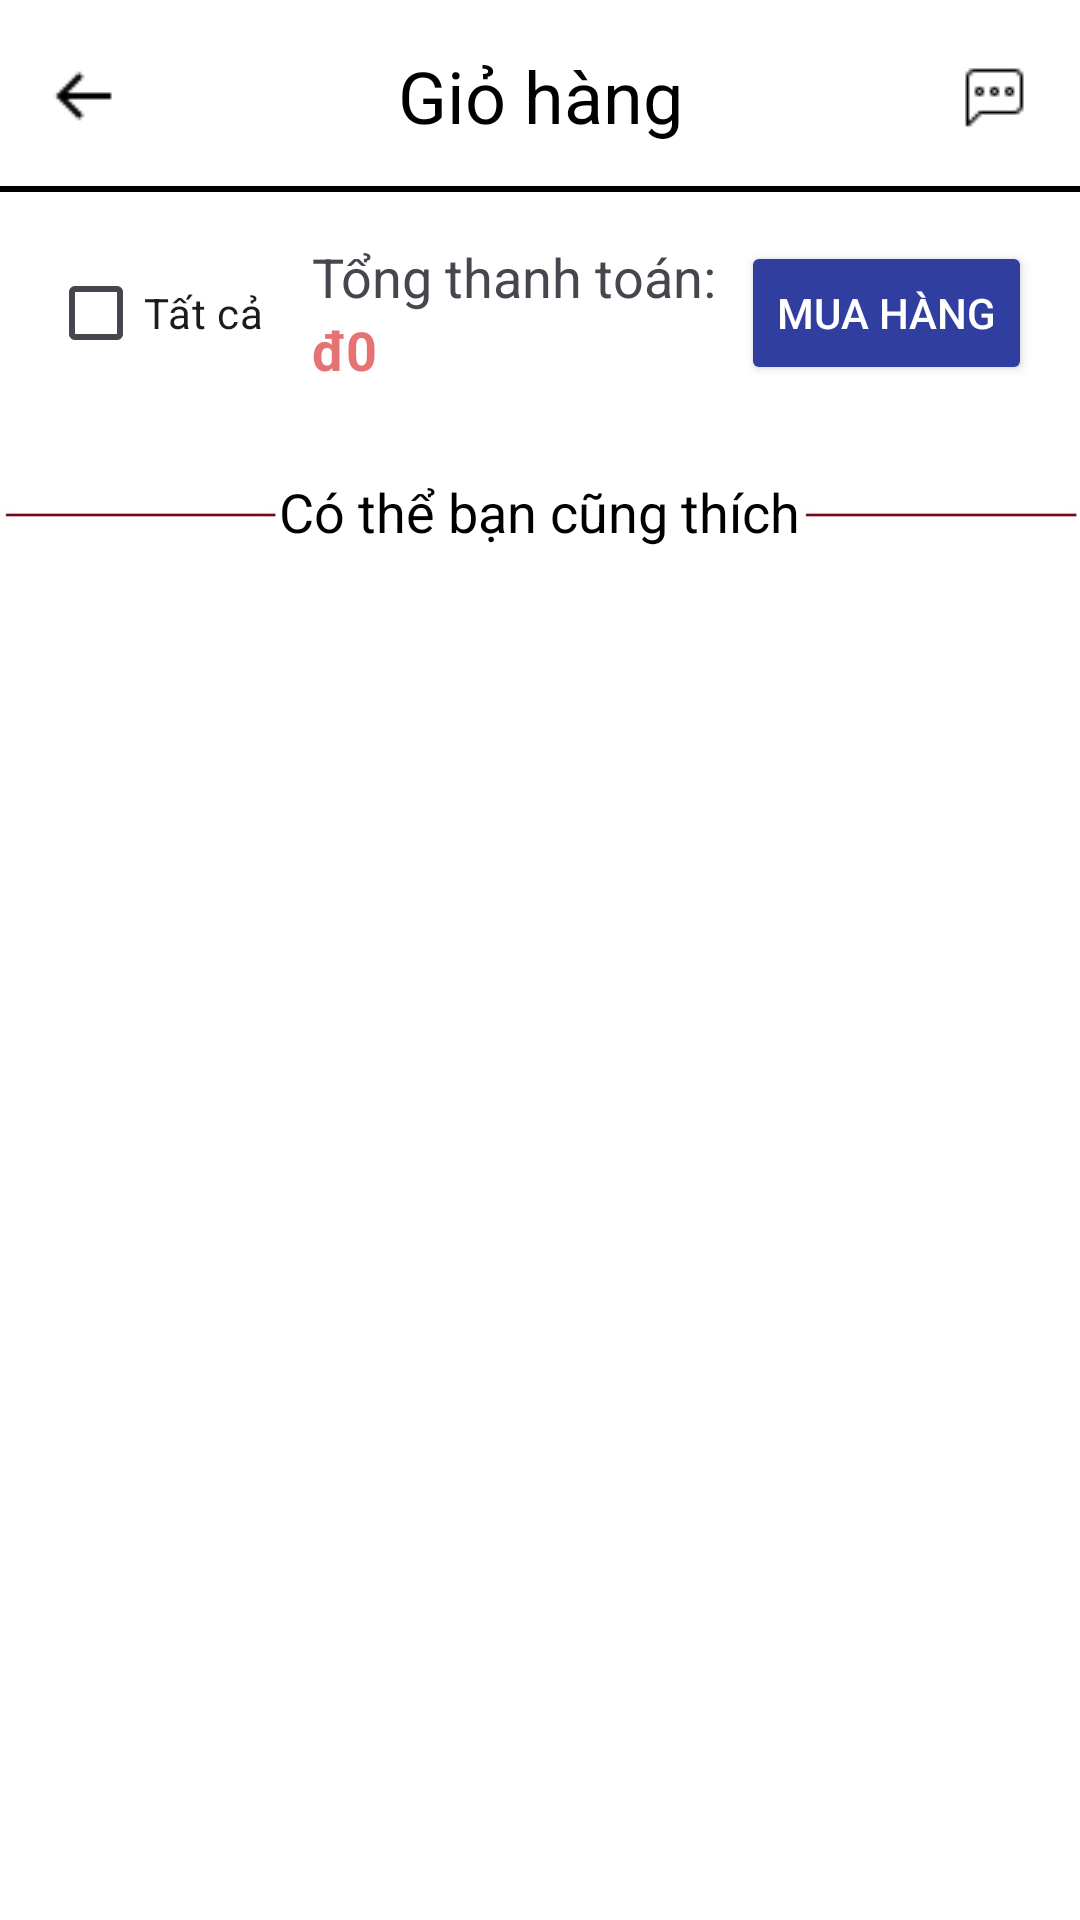

Named icons in this screenshot (1080 × 1920) and their centers, [x,y]:
backicon: [84,96]
messageicon: [994,97]
